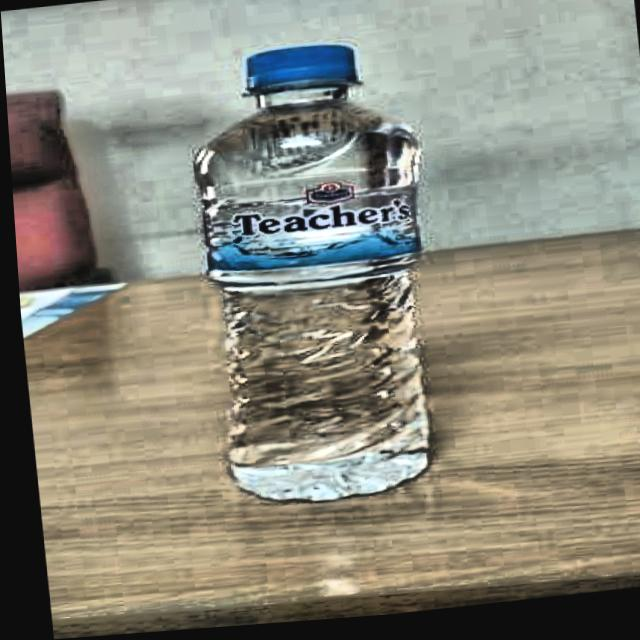Bottles: (142, 20, 494, 523)
